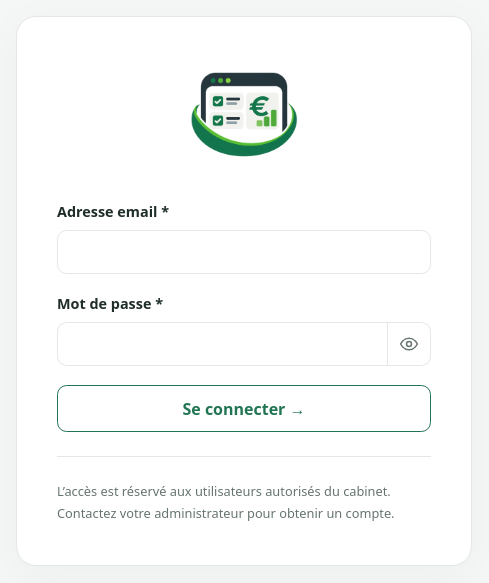
œil accessible : afficher et masquer sans perdre la saisie ni soumettre
Type "Phrase de test" into the password field labelled "Mot de passe *".
click(222, 344); type("Phrase de test")  # box [57,322,388,366]
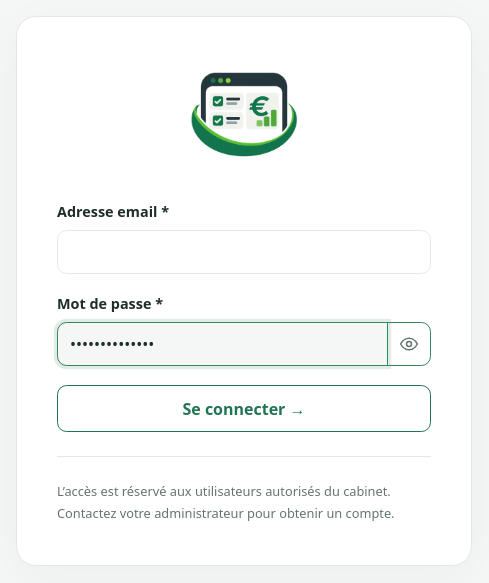
Click the button named "Afficher le mot de passe".
click(409, 344)  # box [387,322,431,366]
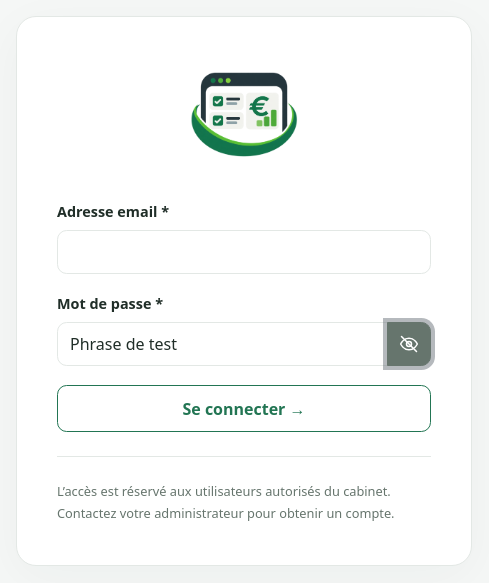
expect the field labelled "Mot de passe *" shows its text: met, box [57,322,388,366]
Type keys " "
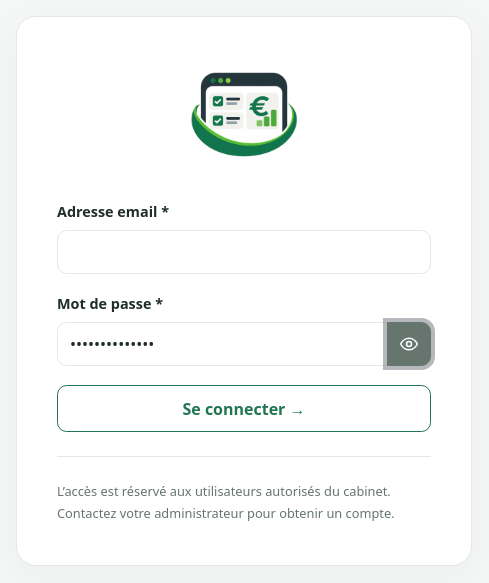
expect the password field labelled "Mot de passe *" hides its text: met, box [57,322,388,366]
